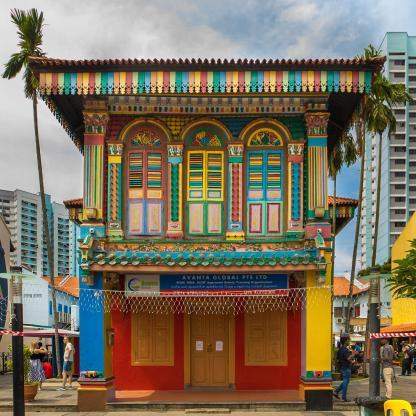Building Outline: (27, 55, 387, 412)
Dont: (69, 284, 339, 316)
Door: (189, 304, 230, 387)
Facade: (84, 71, 328, 391)
Floor Slab: (90, 250, 321, 260)
Ground Floor: (90, 260, 321, 390)
Molding: (40, 71, 372, 95)
Pillar: (77, 108, 116, 412), (298, 110, 334, 411), (106, 140, 126, 240), (286, 141, 306, 239), (165, 142, 184, 241), (226, 141, 245, 240)
Roof: (27, 55, 387, 83), (85, 253, 321, 266)
Shop: (124, 274, 288, 295)
Top Floor: (90, 95, 321, 250)
Window: (249, 303, 285, 362), (135, 304, 171, 362), (247, 151, 283, 201), (128, 150, 164, 200), (188, 151, 223, 201)
